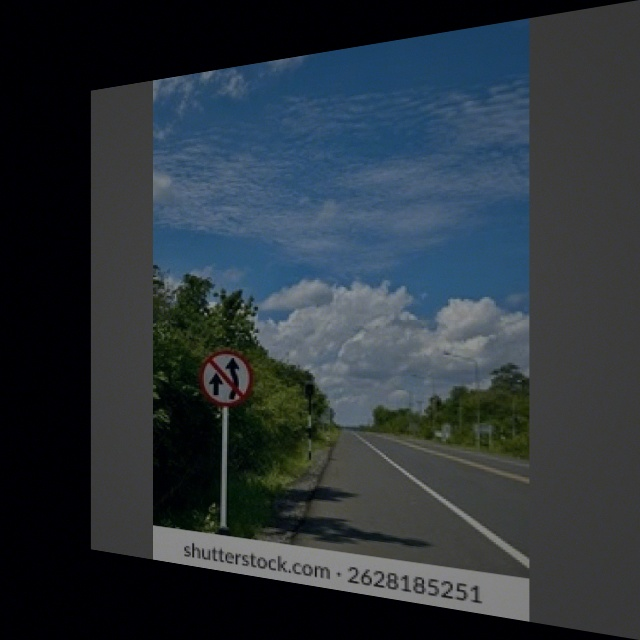Overtaking_Prohibited: (197, 350, 252, 407)
